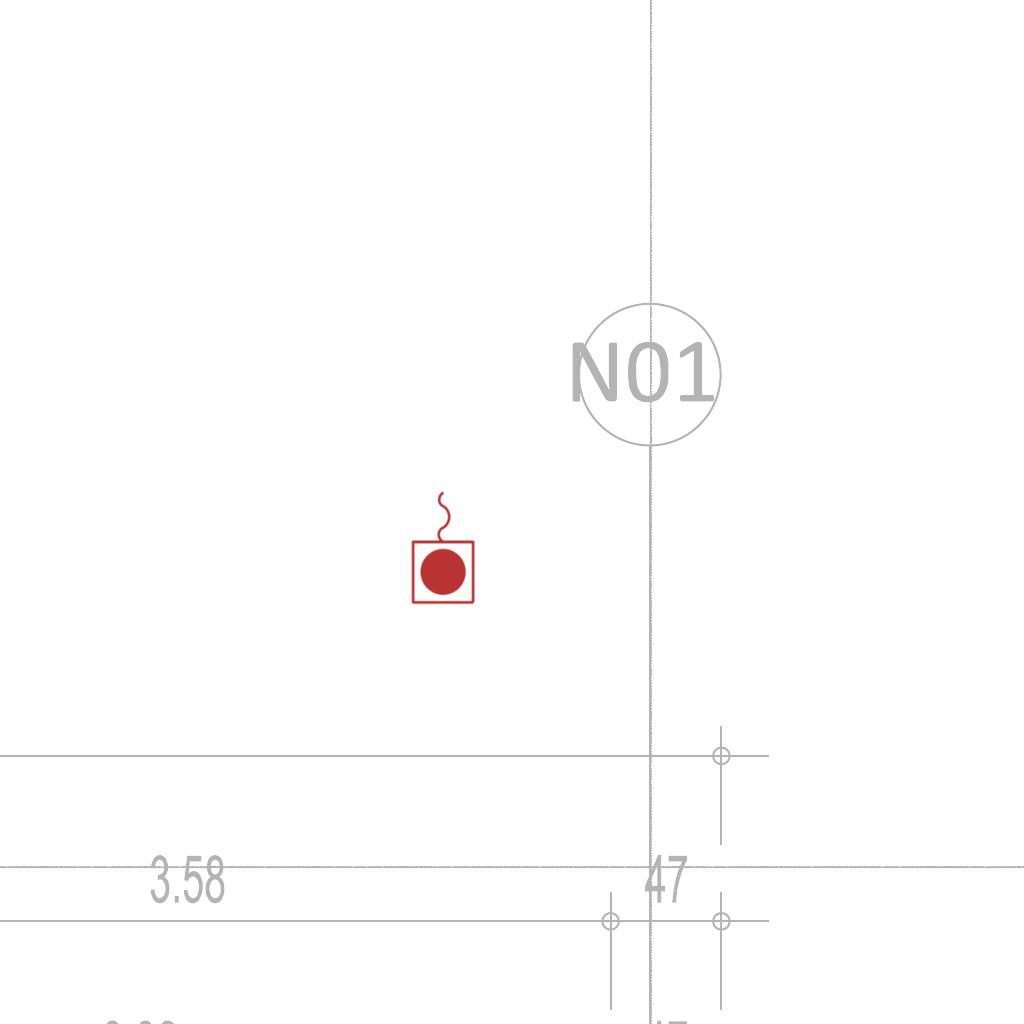Zugtaster: (408, 486, 480, 608)
